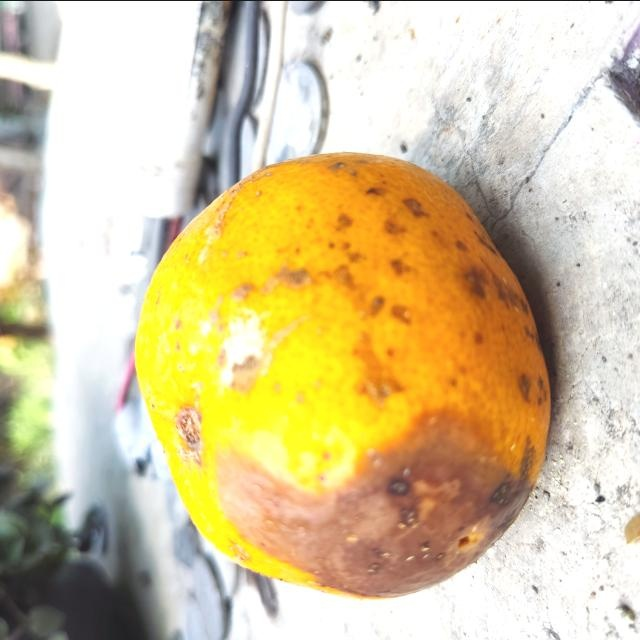agrume: (133, 152, 551, 599)
